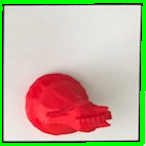Red Knight: (21, 68, 115, 138)
